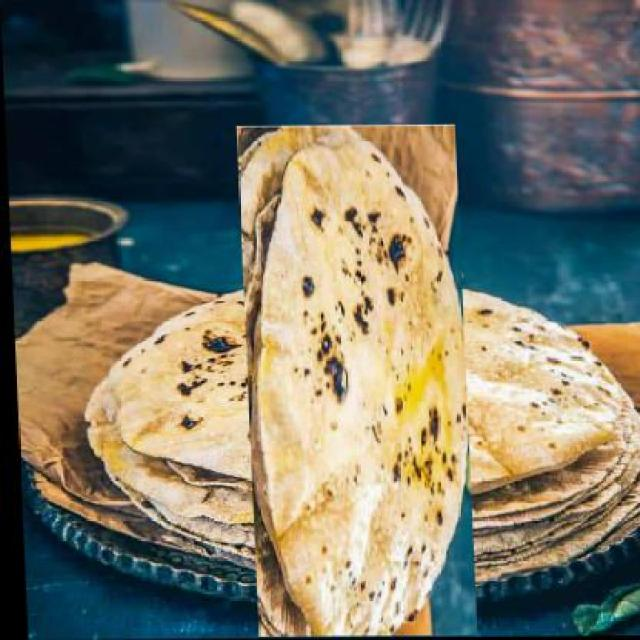chapati: (162, 201, 548, 576)
